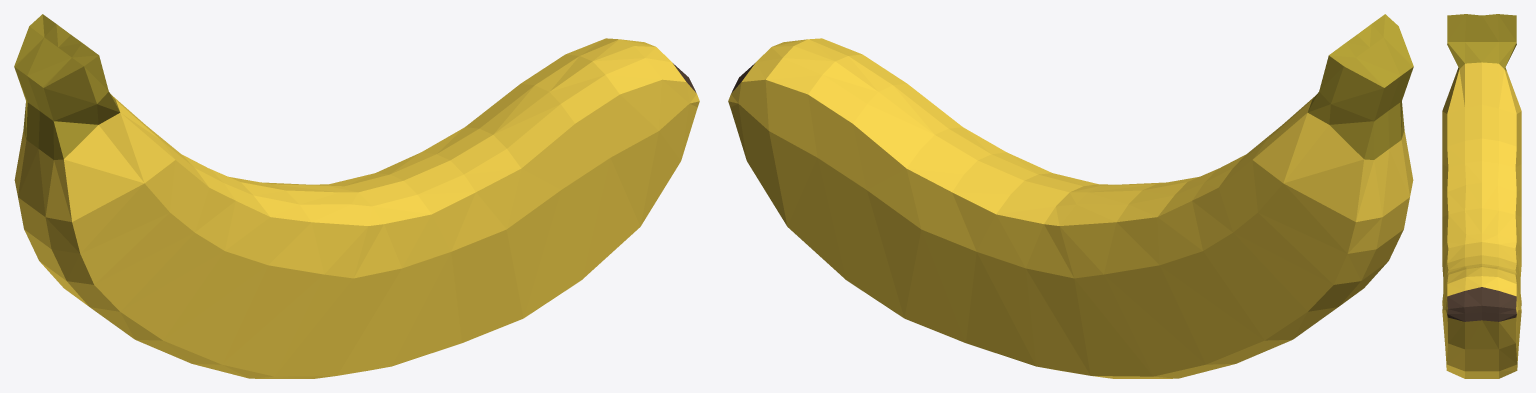
File: banana.fbx
3 renders of one model, left to right at view 1: azimuth 30°, elevation 25°; view 2: azimuth 150°, elevation 25°; view 3: azimuth 270°, elevation 25°, orthographic. The views are drawn at different scales.
Visible parts, largest first — view 1: Plane; view 2: Plane; view 3: Plane.
Boxes of the visible parts, x1=… form: Plane: x1=14, y1=14, x2=699, y2=378; Plane: x1=728, y1=14, x2=1413, y2=378; Plane: x1=1442, y1=14, x2=1521, y2=378.
Size of the model in its own units: 408 by 238 by 70.22.
